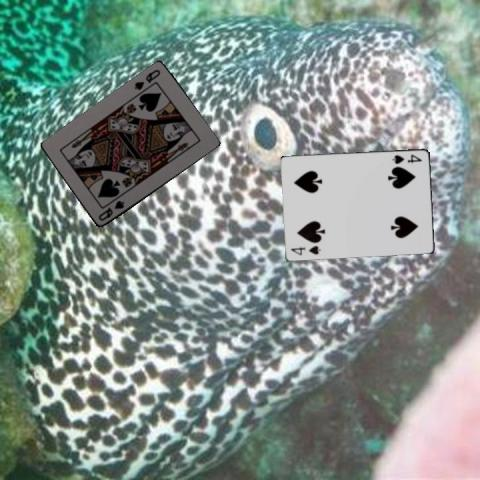4s: (390, 151, 424, 165), (288, 243, 323, 256)
Qs: (95, 197, 126, 223), (131, 67, 162, 92)
